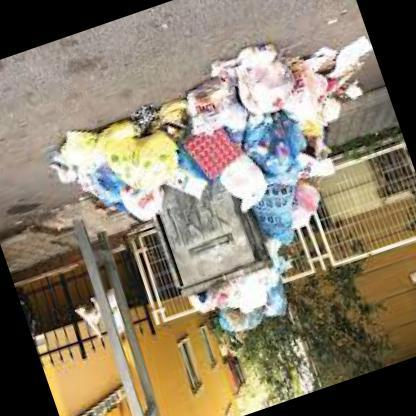Garbage: (45, 6, 398, 235), (207, 8, 415, 255), (181, 262, 304, 353), (112, 121, 204, 200), (306, 22, 386, 110), (176, 66, 256, 143), (242, 108, 316, 190), (228, 38, 301, 116), (78, 156, 132, 210), (216, 270, 281, 313), (283, 182, 336, 233), (212, 304, 271, 344), (326, 61, 373, 111)
